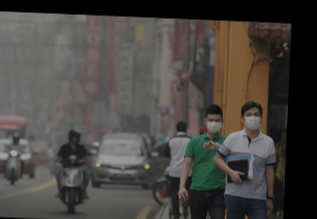with_mask: (243, 109, 261, 131), (205, 116, 223, 135)
